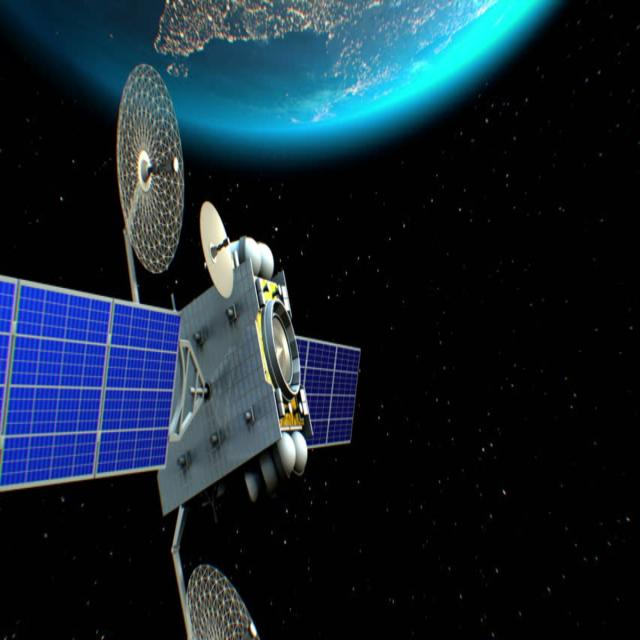satellite: (0, 55, 366, 640)
